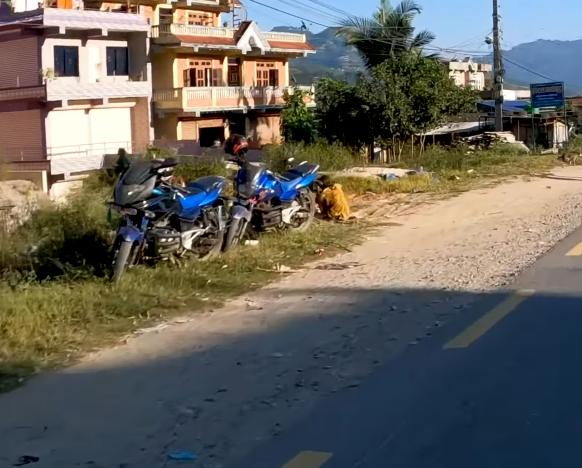bike: (103, 143, 229, 288), (220, 149, 325, 255)
